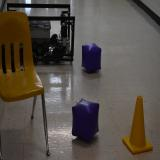cone: (122, 95, 153, 154)
cube: (72, 98, 100, 142), (82, 42, 102, 72)
